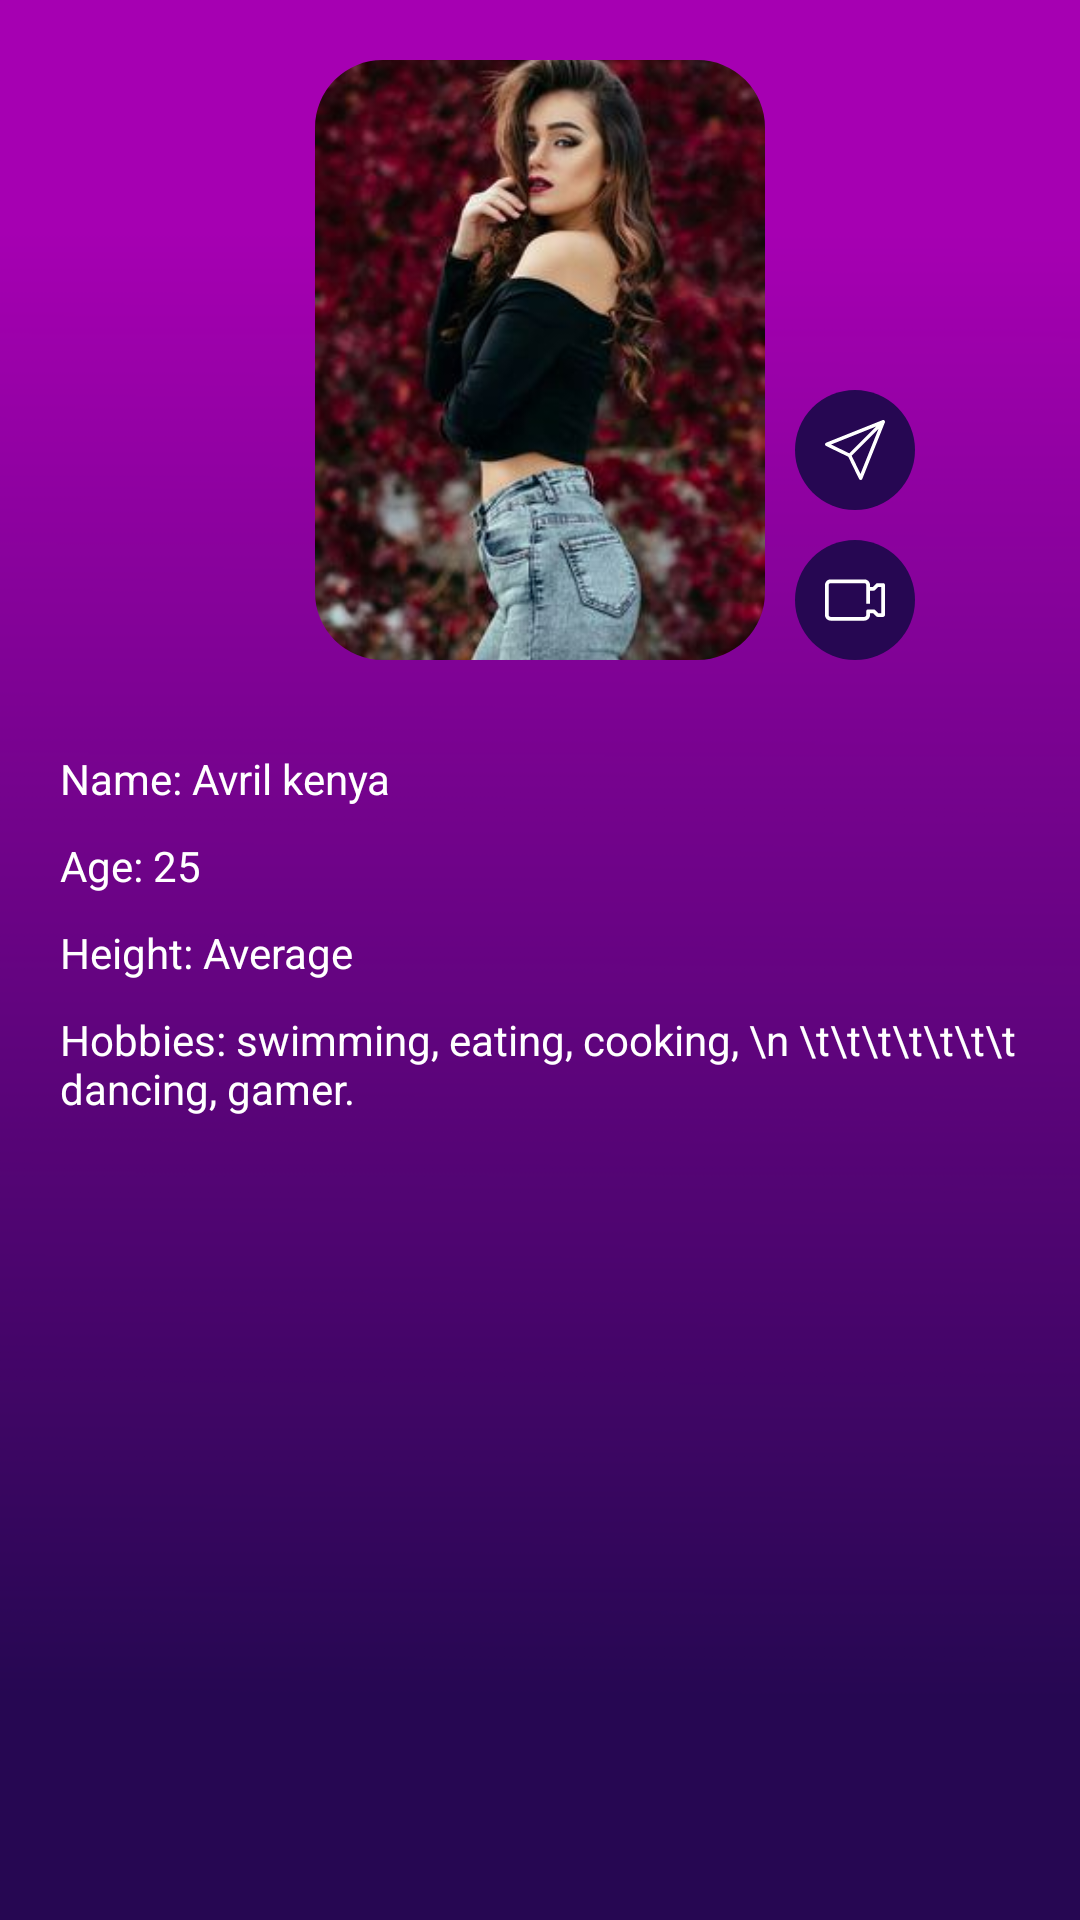

Point at icon controls on the screen. Image size 1080×1920, points as point (x, y).
send: point (855, 450)
video call: point (855, 600)
